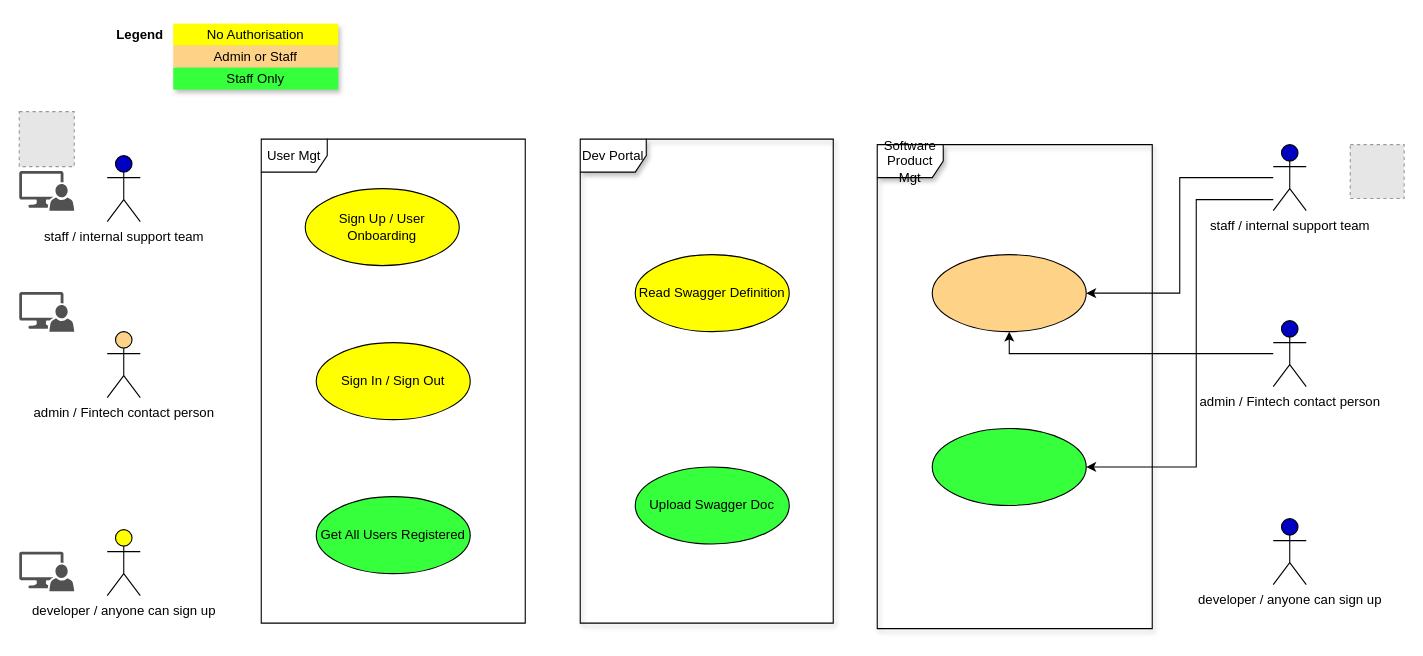
Some shapes in this 1423 by 656 pixel diagram are drawn without their labels. Grey dashed boxes stand in for pictures. The shapes that lost their labels are listed below. From the top down, each one's centre as x and y in pixels, then its label:
(1008,293): Create Software Product
(1008,466): Get Software Product / Edit / Delete
